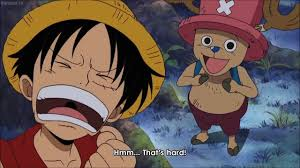chopper: (177, 1, 273, 79)
luffy: (2, 1, 168, 146)
